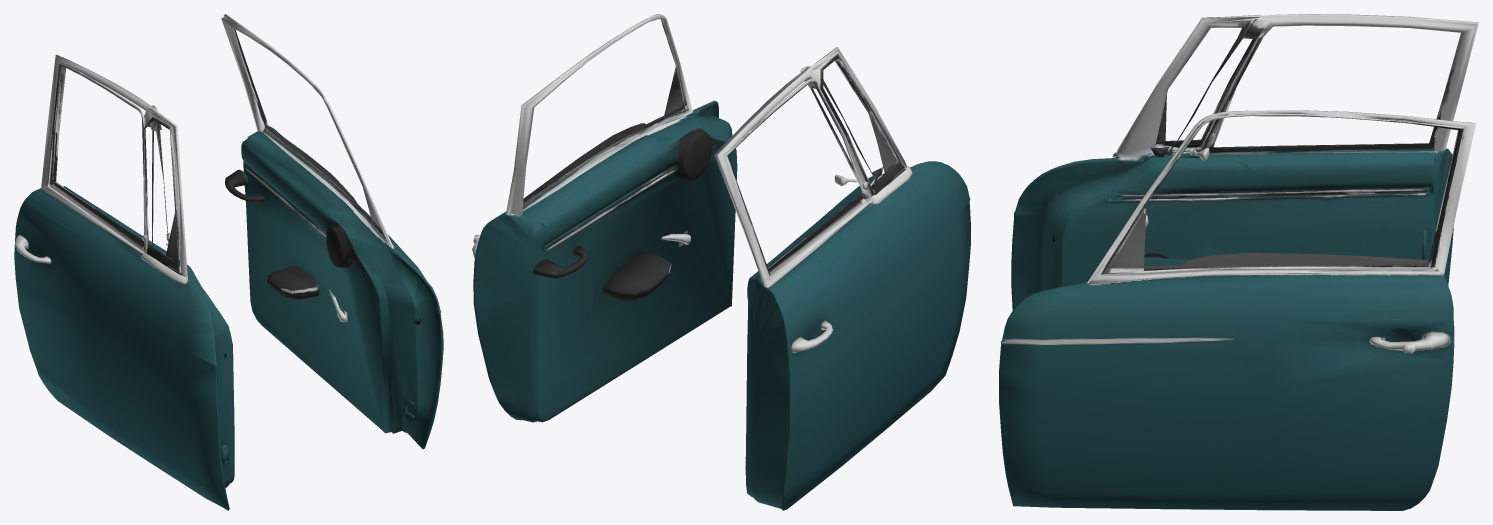
File: optimized_glb.glb
3 renders of one model, left to right at view 1: azimuth 30°, elevation 25°; view 2: azimuth 150°, elevation 25°; view 3: azimuth 270°, elevation 25°, orthographic. The views are drawn at different scales.
Parts seen in each view (by area): view 1: right front door; view 2: right front door; view 3: right front door.
Part boxes in pixels (left/top/right/bottom): right front door: left=14, top=14, right=443, bottom=510; right front door: left=472, top=14, right=970, bottom=510; right front door: left=999, top=14, right=1478, bottom=510.
Size of the model in its own units: 0.8887 by 0.9395 by 0.998.
1 material, 1 textured.
